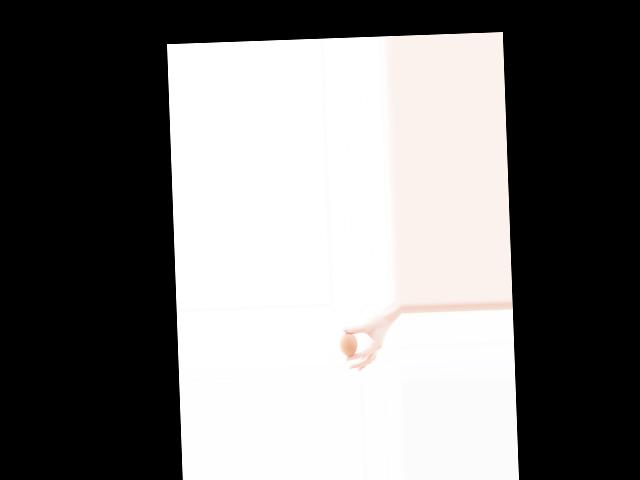egg: (339, 332, 357, 357)
